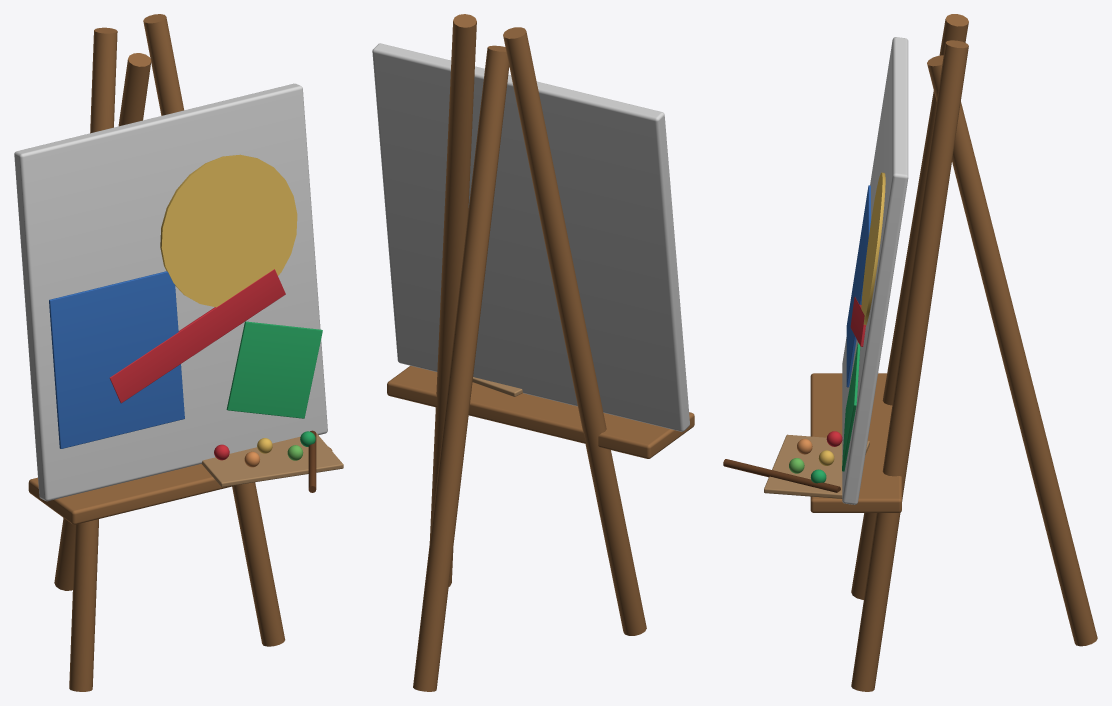
The model's file is easel.glb.
3 views of the same model, side by side, from view 1: azimuth 30°, elevation 25°; view 2: azimuth 150°, elevation 25°; view 3: azimuth 270°, elevation 25° (orthographic).
Visible parts, largest first — view 1: easel-solid; view 2: easel-solid; view 3: easel-solid.
Part boxes in pixels (left/top/right/bottom): easel-solid: left=14, top=14, right=343, bottom=691; easel-solid: left=372, top=14, right=694, bottom=691; easel-solid: left=723, top=14, right=1097, bottom=691.
Bounding box in the file's own units: 0.3995 × 0.8236 × 0.4561.
